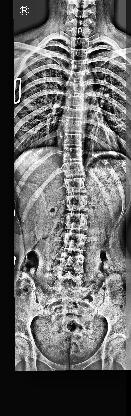Vertebrae: (51, 252, 90, 270), (56, 233, 94, 251), (57, 212, 94, 230), (55, 146, 91, 162), (56, 178, 93, 192), (55, 162, 91, 176), (54, 132, 90, 146), (60, 196, 93, 210), (58, 119, 89, 132), (62, 106, 88, 118), (66, 70, 92, 82), (63, 92, 87, 104), (66, 36, 94, 46), (68, 48, 92, 58), (67, 60, 91, 70), (66, 82, 88, 92)
